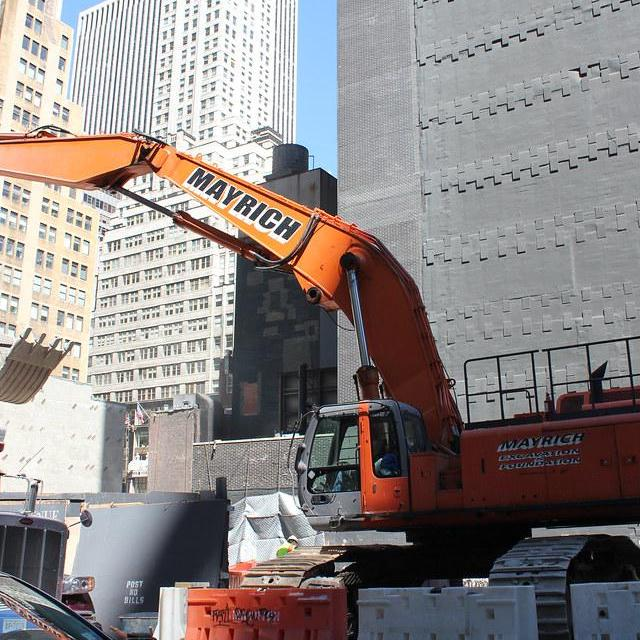Excavator: (0, 127, 640, 640)
Hardhat: (288, 535, 298, 543)
Person: (275, 536, 298, 557)
SUV: (0, 558, 200, 640)
Safety Vest: (276, 544, 294, 557)
semi: (0, 404, 103, 632)
